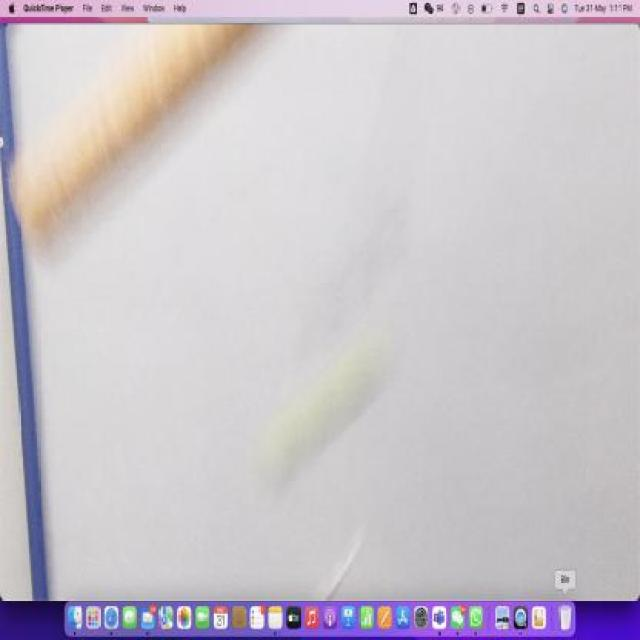baseball: (266, 328, 397, 487)
